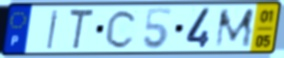4: (184, 6, 214, 51)
5: (143, 6, 175, 52)
C: (104, 9, 140, 51)
I: (45, 9, 61, 51)
M: (213, 7, 256, 50)
T: (67, 7, 96, 52)
